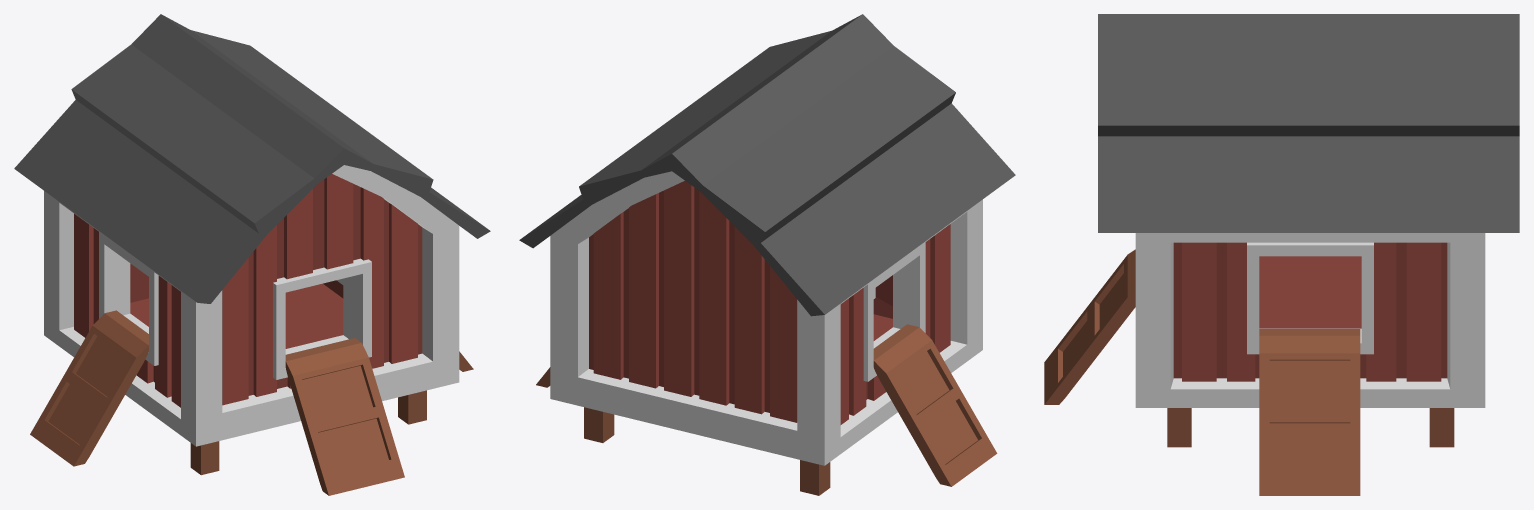
Rendered from quaternius_cc0-chicken-coop-819.glb.
3 renders of one model, left to right at view 1: azimuth 30°, elevation 25°; view 2: azimuth 150°, elevation 25°; view 3: azimuth 270°, elevation 25°, orthographic. The views are drawn at different scales.
Visible parts, largest first — view 1: ChickenCoop; view 2: ChickenCoop; view 3: ChickenCoop.
Boxes of the visible parts, x1,y1,x2,y2 form: ChickenCoop: (14, 14, 490, 495); ChickenCoop: (519, 14, 1015, 495); ChickenCoop: (1044, 14, 1519, 495).
Size of the model in its own units: 2.41 by 1.85 by 2.15.
